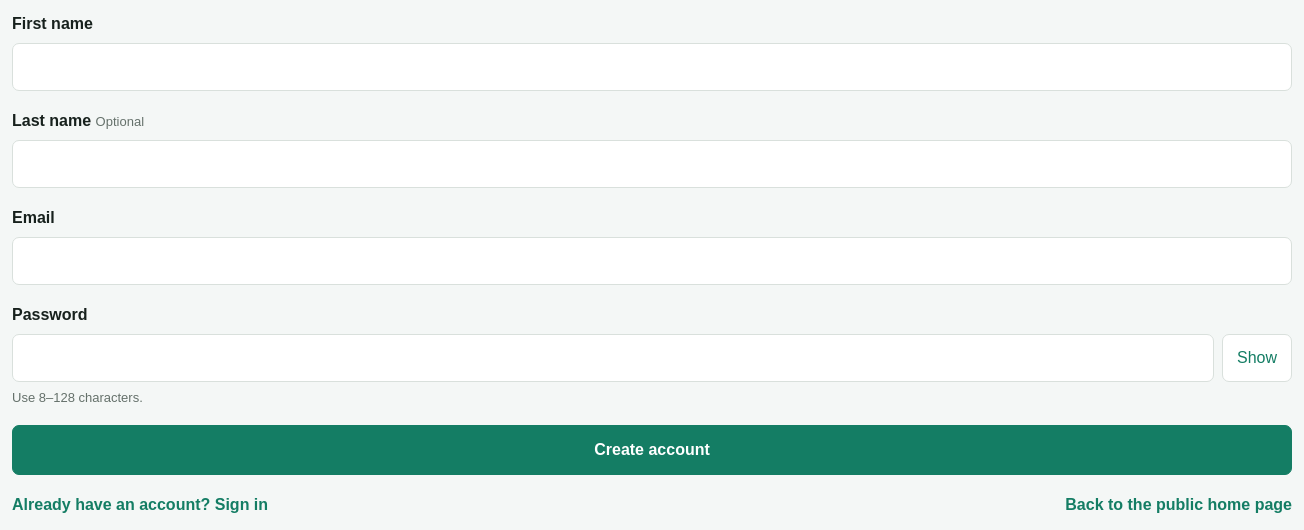
RegistrationForm › disables submission and shows a loading state while pending
In the field labelled "First name": (652, 67) [12,43,1292,91], type "Meiir"
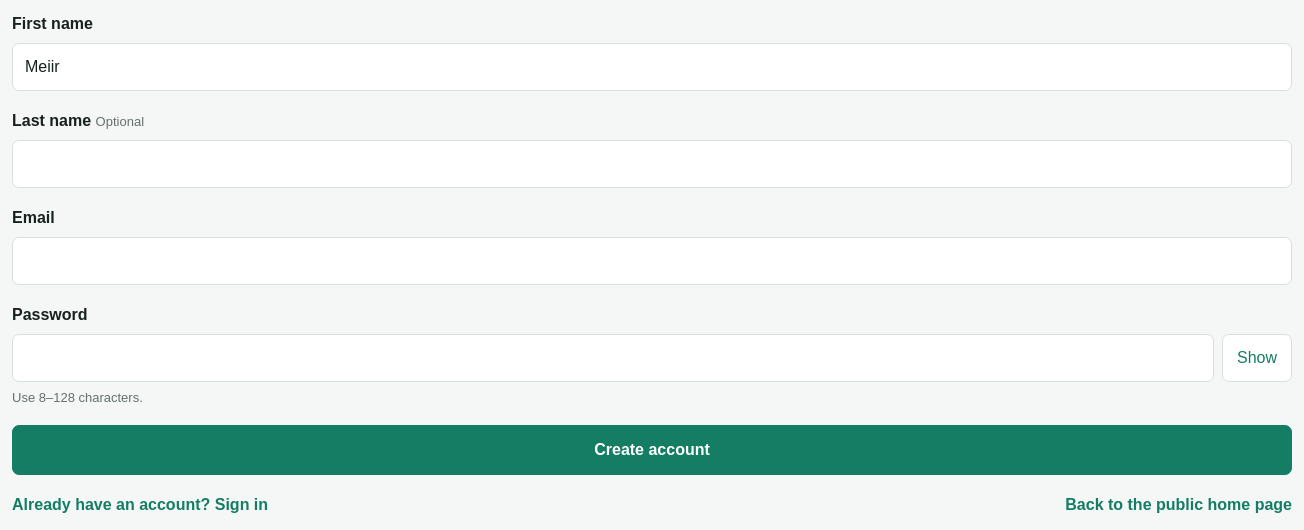
In the field labelled "Last name Optional": (652, 164) [12,140,1292,188], type "Orazalin"
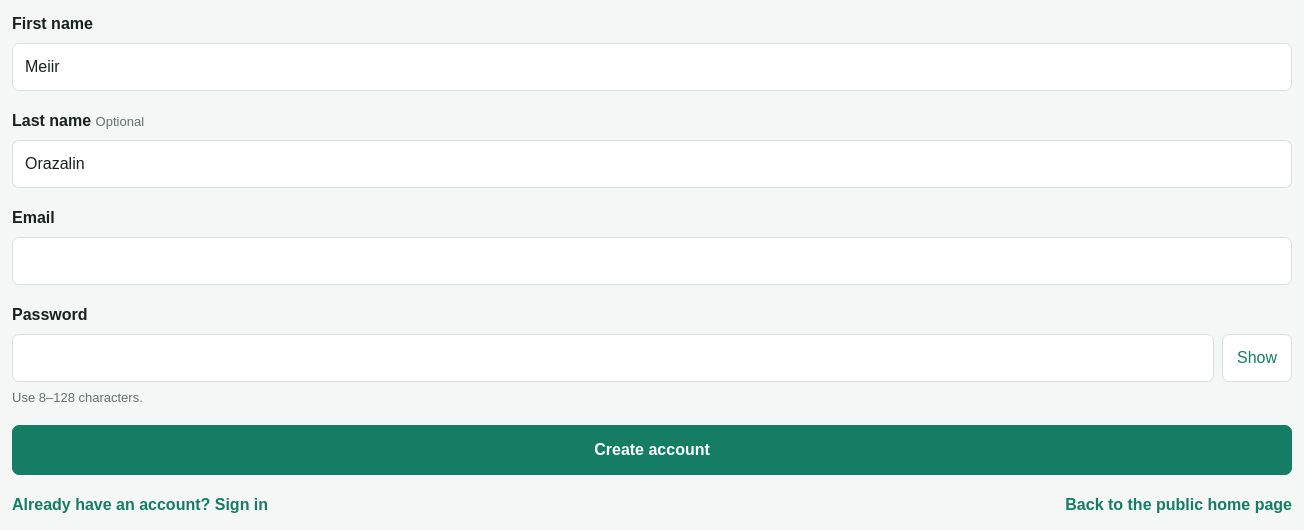
In the field labelled "Email": (652, 261) [12,237,1292,285], type "meiir@example.com"
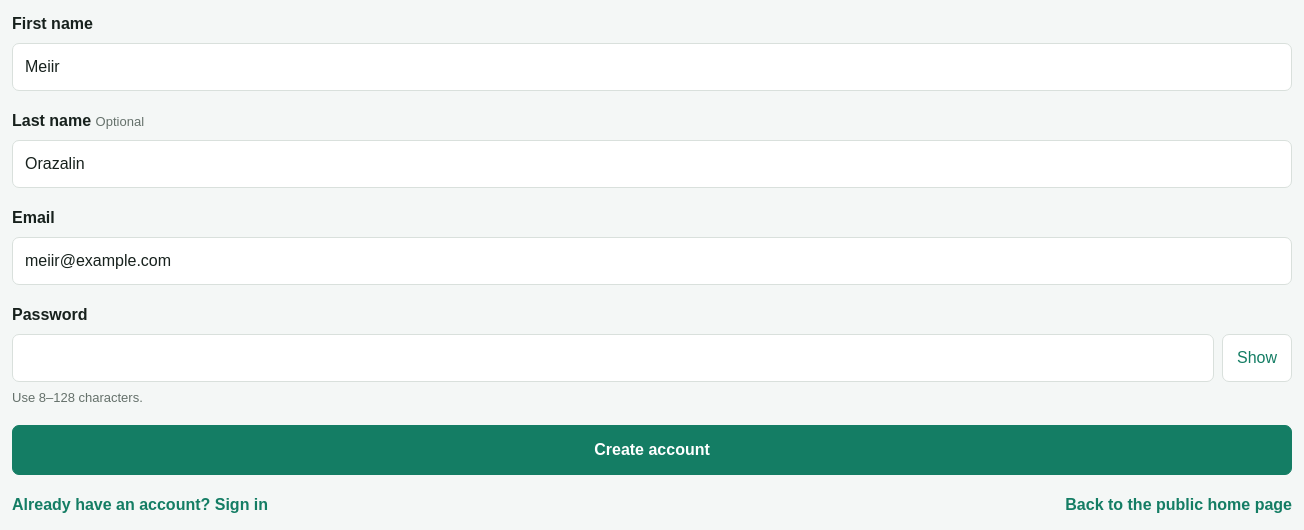
In the password field labelled "Password": (613, 358) [12,334,1214,382], type "example-password"
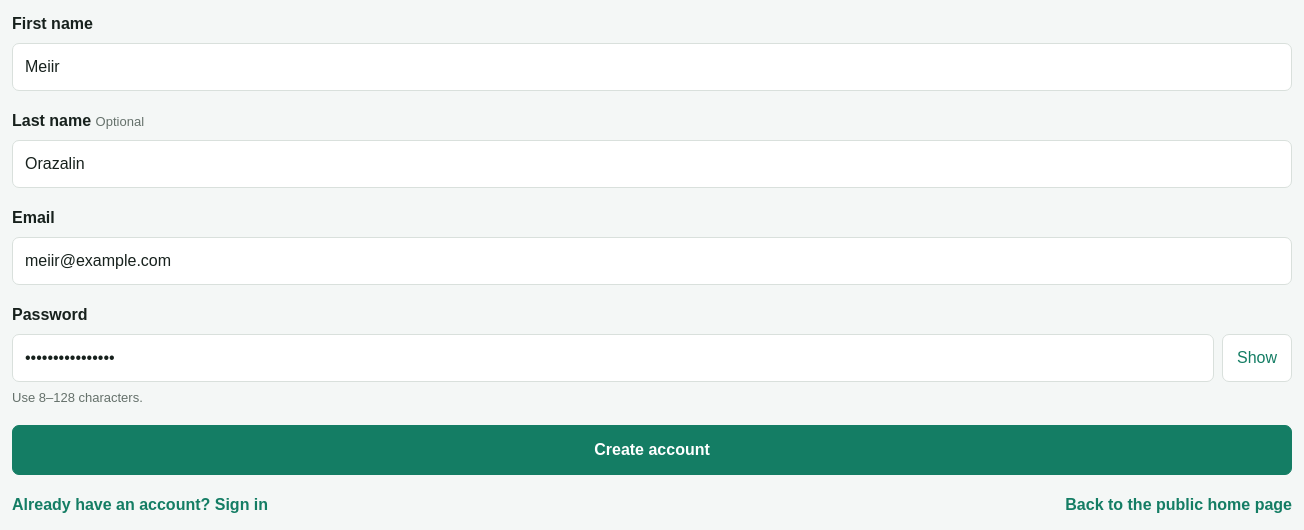
Click the button "Create account": click(652, 450) [12,425,1292,475]
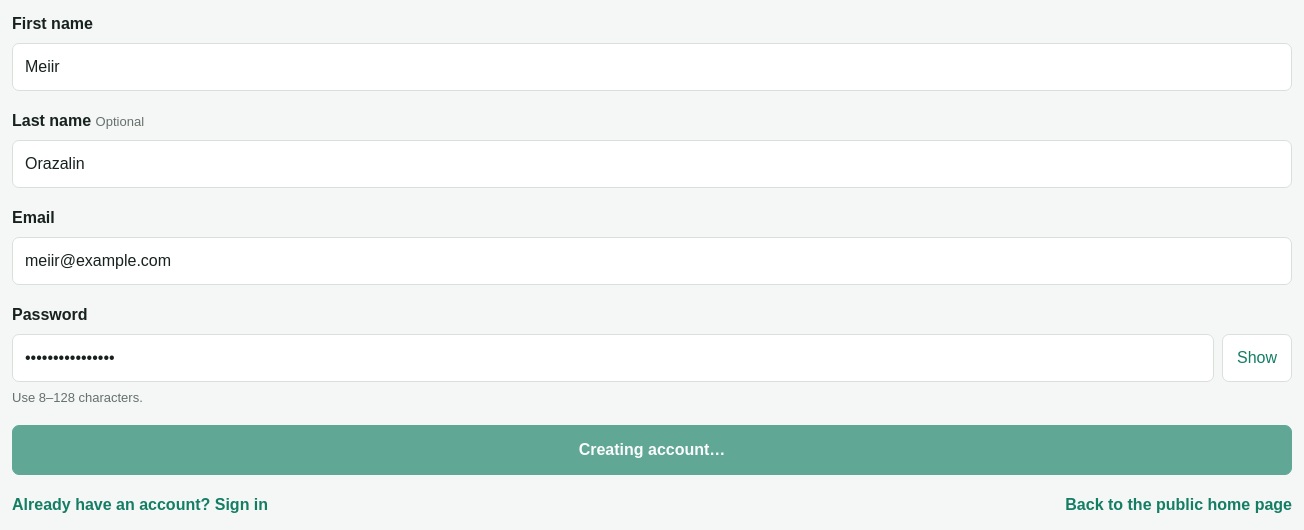
expect the button "Creating account…" is disabled: met, box [12,425,1292,475]
